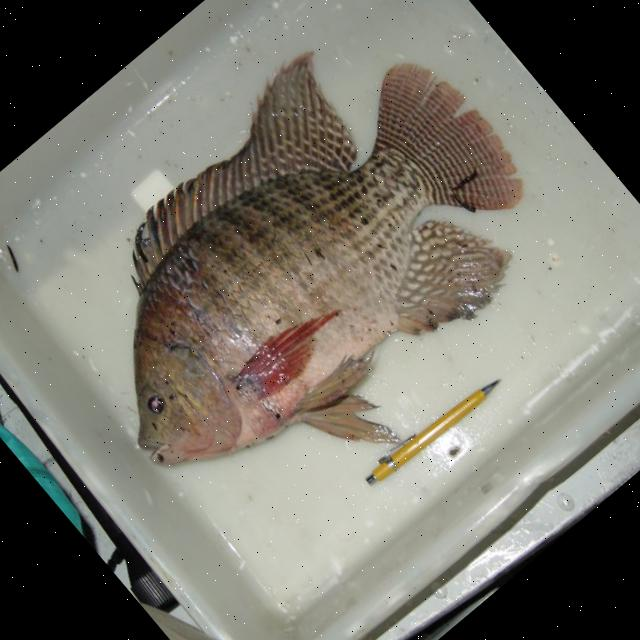ikan: (0, 0, 626, 584)
